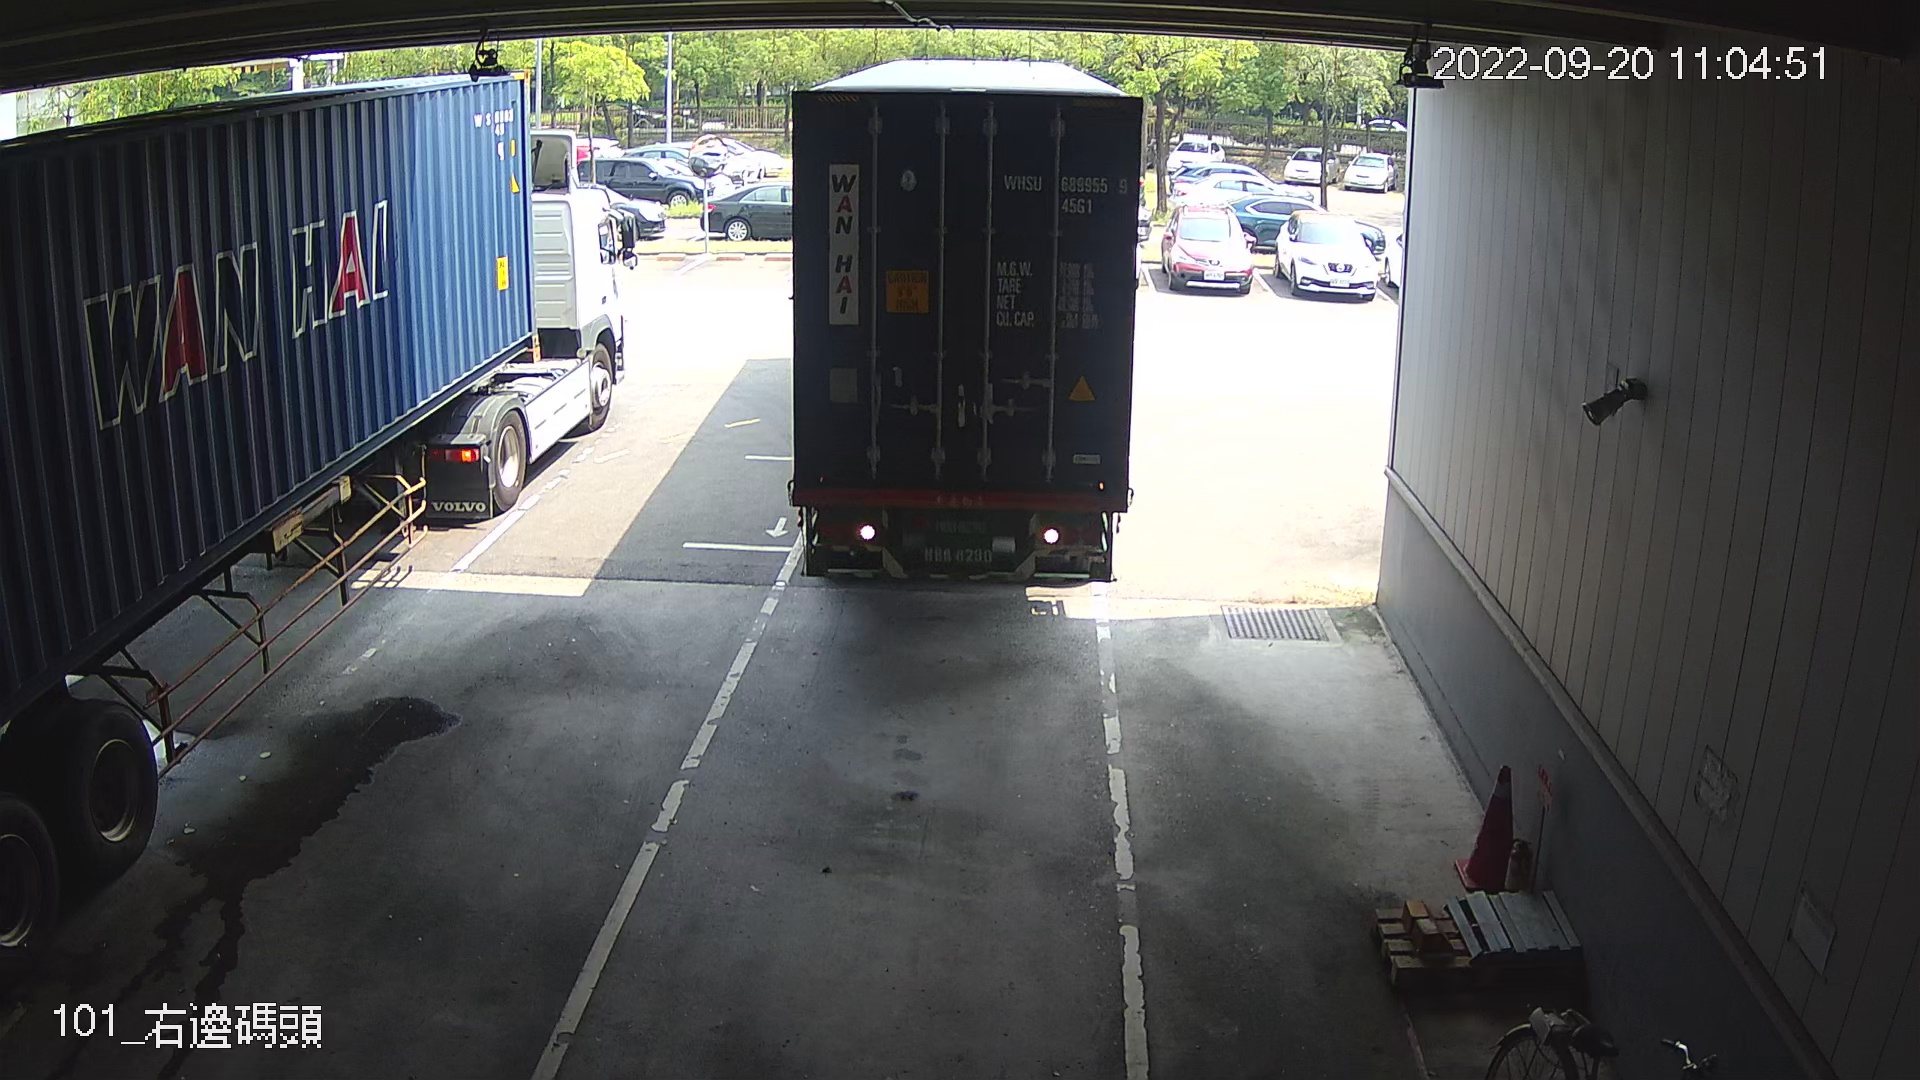container: (994, 161, 1134, 220)
